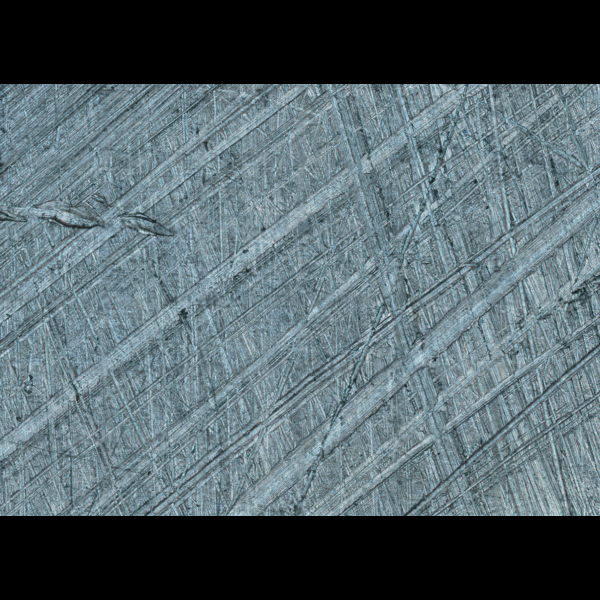d: (0, 186, 181, 247)
